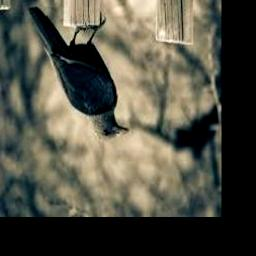Crow: (26, 7, 129, 141)
